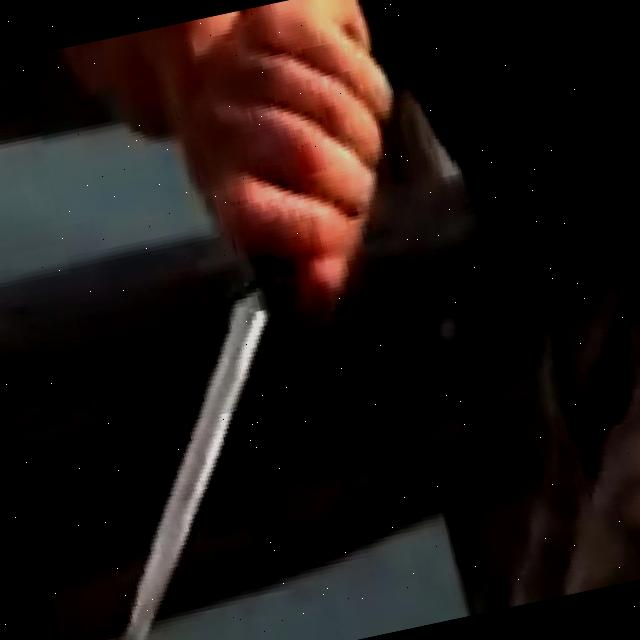suspicion: (0, 0, 507, 640), (41, 265, 353, 640)
